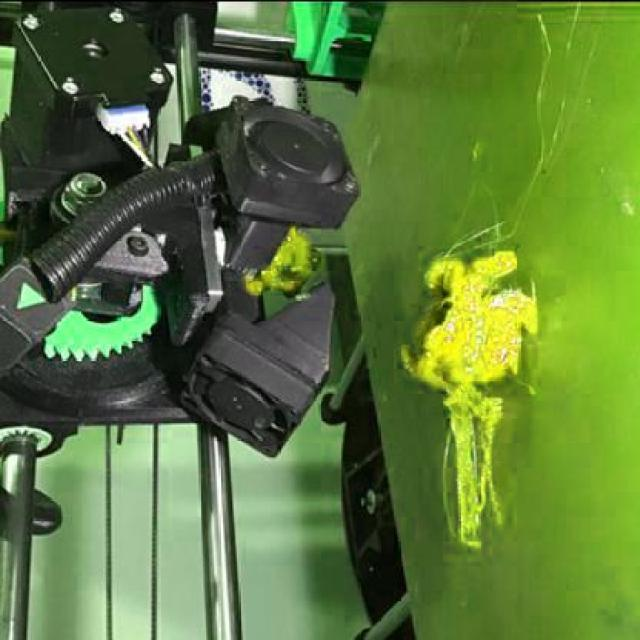Spaghetti: (439, 385, 506, 550)
